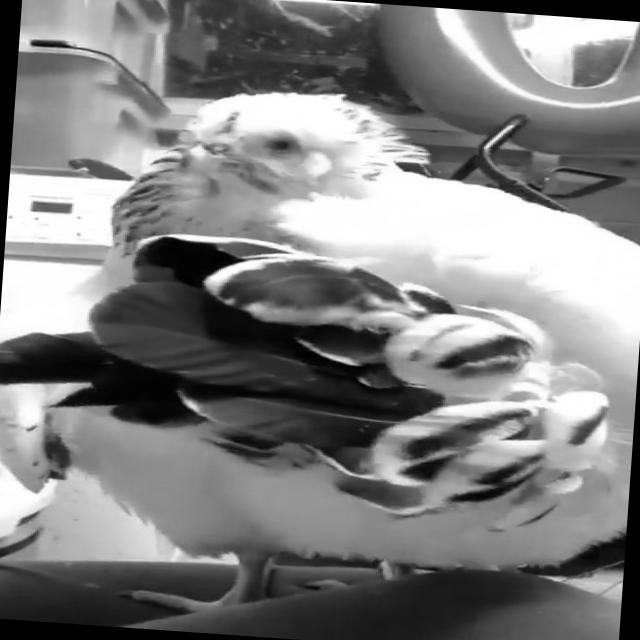self preening: (60, 51, 640, 607)
